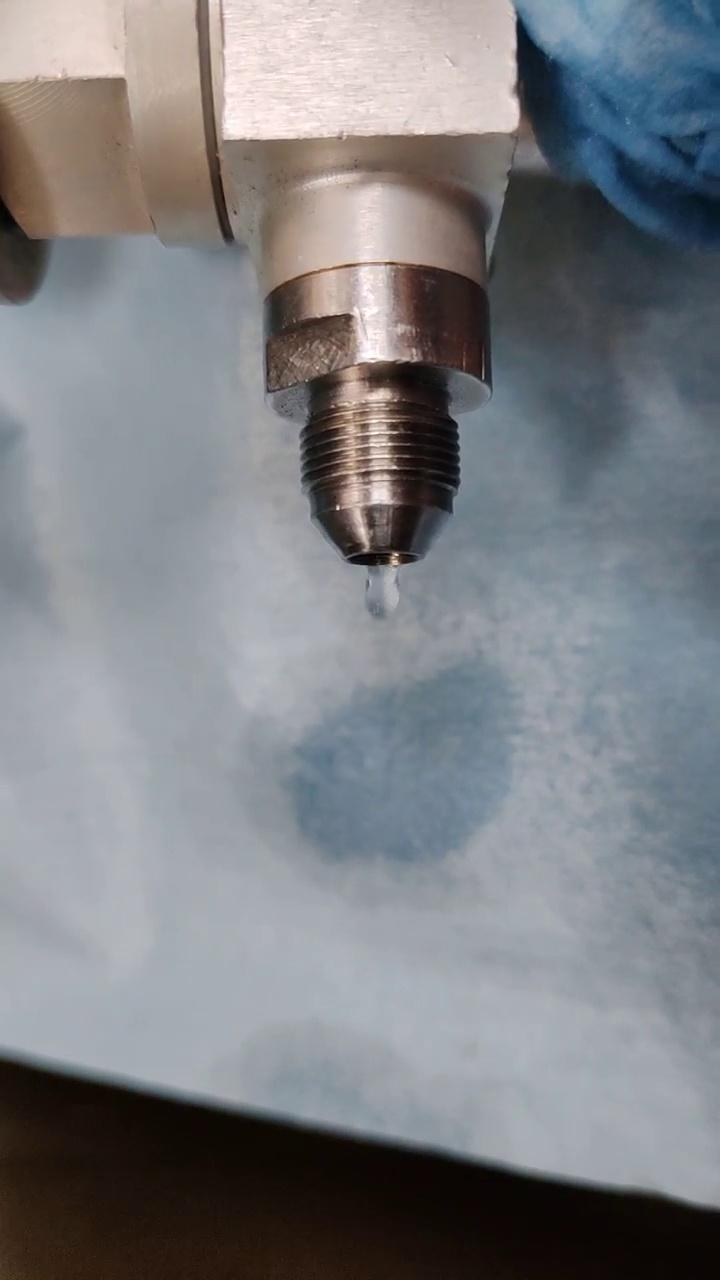water drop: (362, 561, 401, 619)
